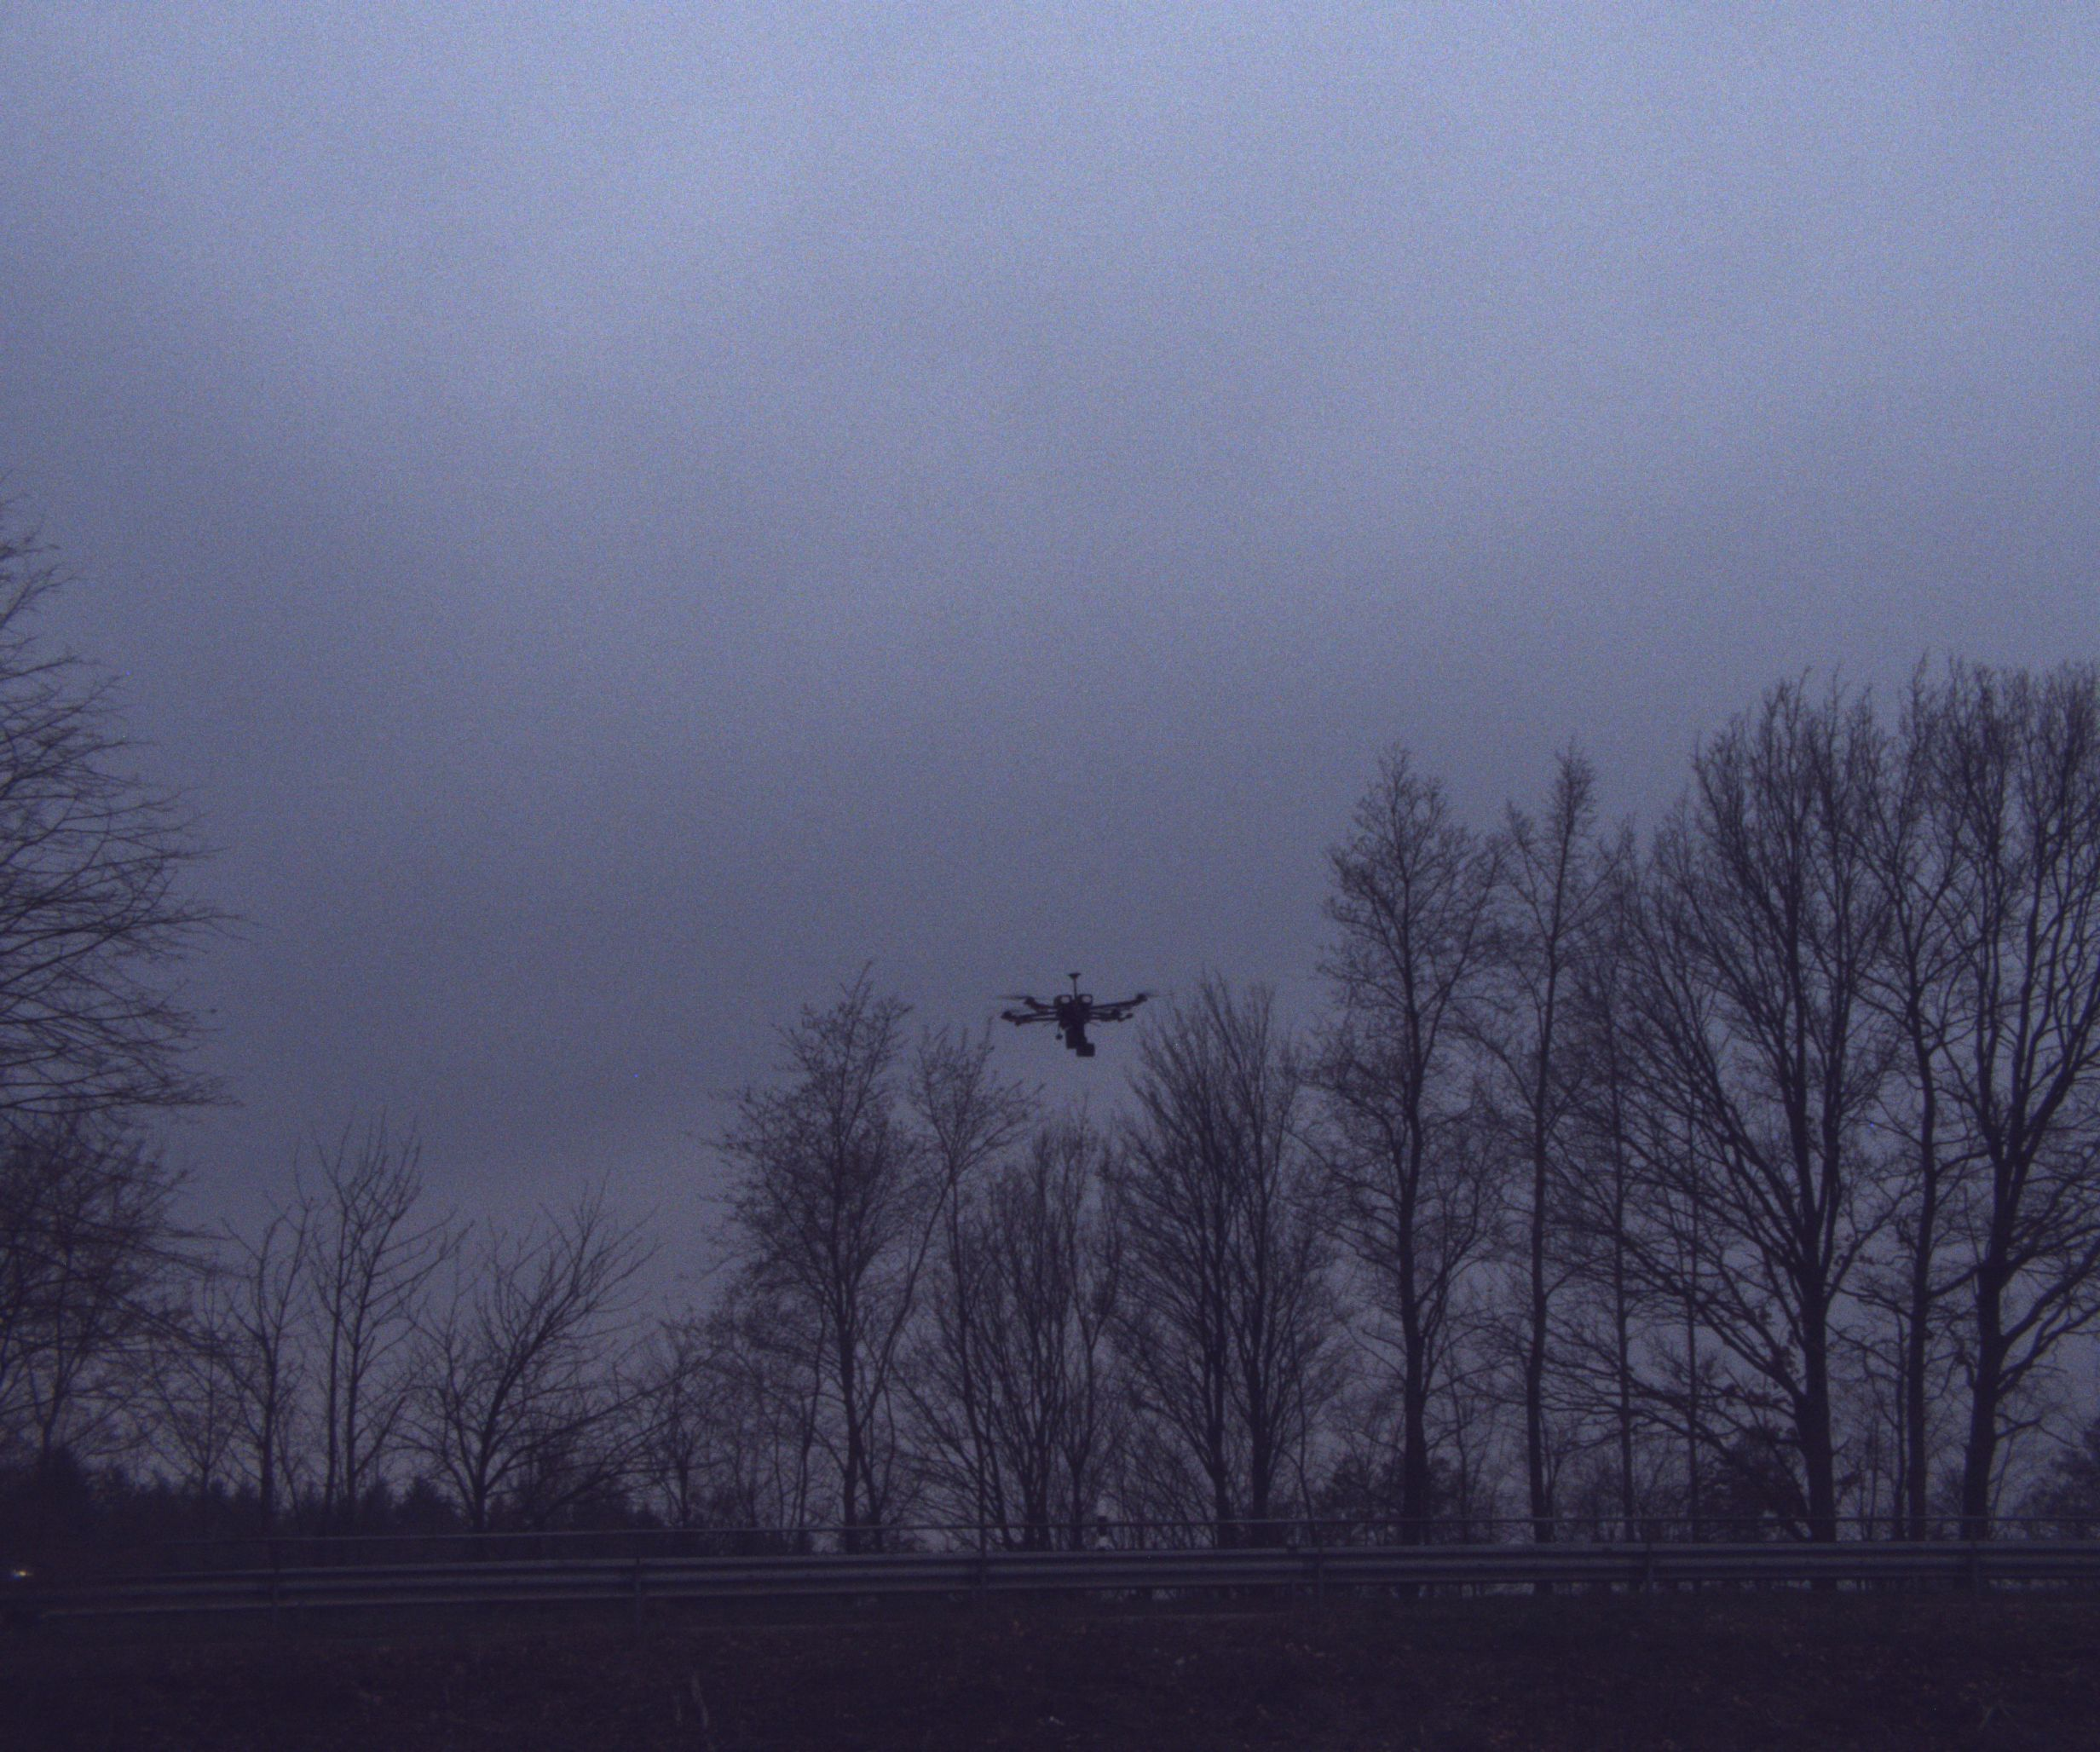Drohne: (958, 955, 1200, 1098)
